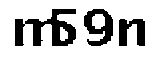5: (56, 6, 80, 48)
9: (80, 6, 114, 49)
m: (13, 16, 61, 49)
n: (117, 16, 147, 49)
